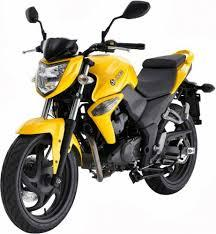motorcycle: (1, 1, 213, 233)
